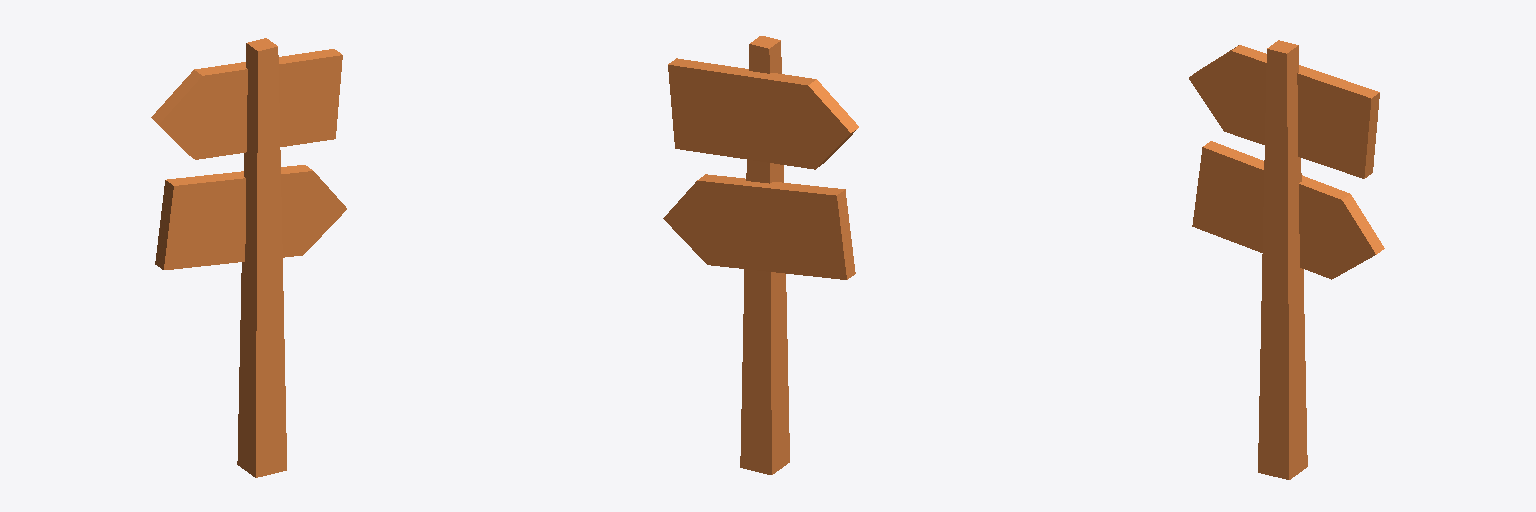
File: signpost.obj
3 renders of one model, left to right at view 1: azimuth 30°, elevation 25°; view 2: azimuth 150°, elevation 25°; view 3: azimuth 330°, elevation 25°, orthographic.
Parts seen in each view (by area): view 1: signpost; view 2: signpost; view 3: signpost.
Part boxes in pixels (bbox=[...]): signpost: bbox=[151, 38, 346, 477]; signpost: bbox=[663, 36, 858, 474]; signpost: bbox=[1189, 40, 1384, 479].
Size of the model in its own units: 0.2141 by 0.4601 by 0.043.